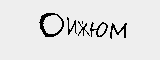Ж: (76, 17, 89, 38)
И: (66, 15, 78, 37)
М: (108, 19, 127, 41)
О: (37, 11, 64, 40)
Ю: (87, 18, 108, 41)
